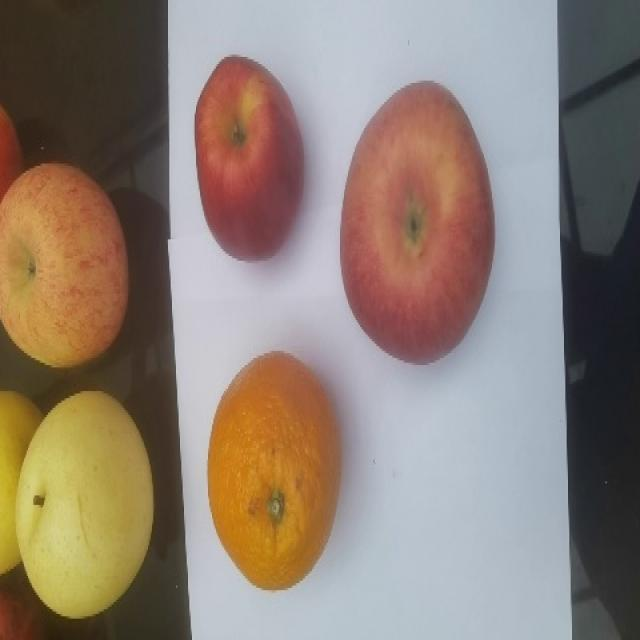Apple: (339, 79, 495, 364), (0, 161, 130, 369), (193, 54, 305, 262)
Orange: (206, 350, 342, 590)
